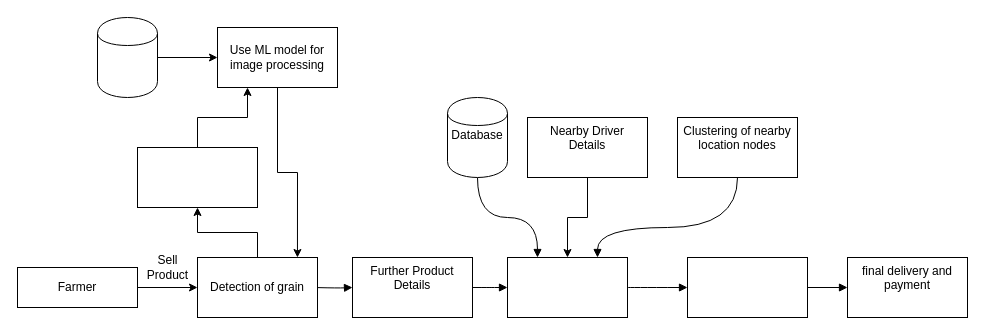
Image size: 985x335. Some labels were removed from this diagram. The centre of each missing label's shape, as x and y in pixels:
"Datasets" goes at pixel 127 57.
"Input Image by the seller" goes at pixel 197 177.
"Route Prediction and optimization" goes at pixel 567 287.
"Sharing the route details with driver for pickup and delivery." goes at pixel 747 287.
